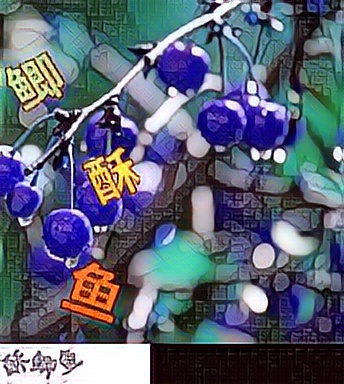CBD6: (80, 144, 145, 208)
D3E3: (55, 261, 120, 325)
F6EA: (6, 46, 71, 110)
